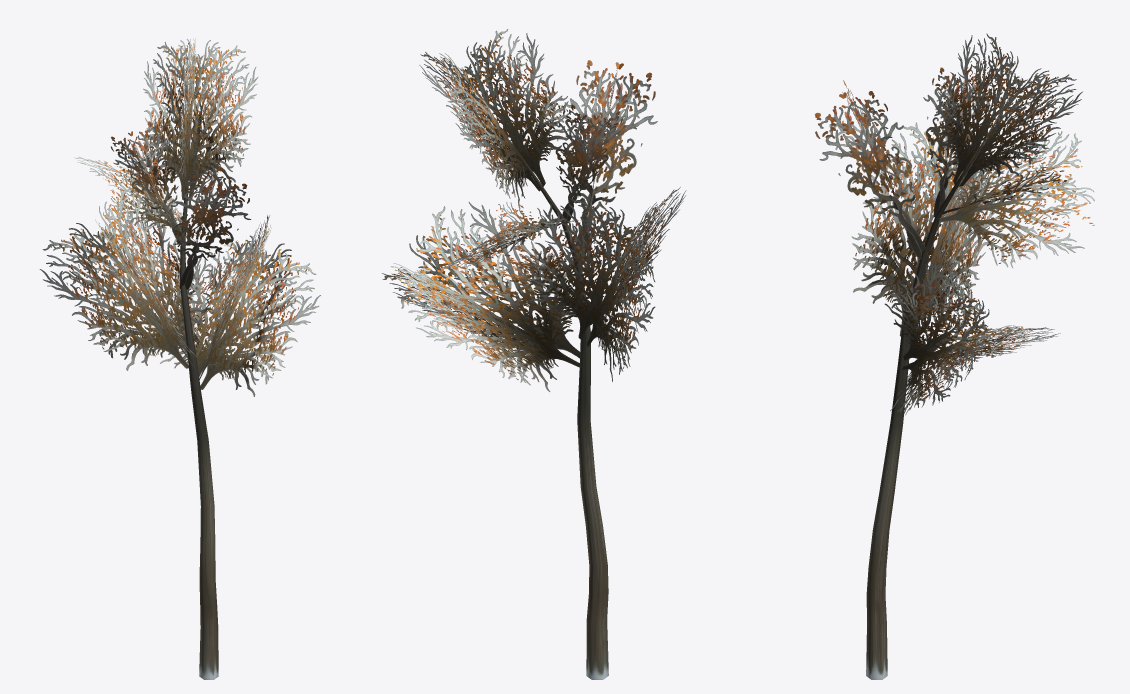
File: dragonblight_tree04.obj
3 views of the same model, side by side, from view 1: azimuth 30°, elevation 25°; view 2: azimuth 150°, elevation 25°; view 3: azimuth 270°, elevation 25° (orthographic). The views are drawn at different scales.
Parts seen in each view (by area): view 1: Geoset1, Geoset0; view 2: Geoset1, Geoset0; view 3: Geoset1, Geoset0.
Part boxes in pixels (bbox=[...]): Geoset1: bbox=[39, 39, 320, 396]; Geoset0: bbox=[180, 151, 218, 679]; Geoset1: bbox=[382, 29, 686, 391]; Geoset0: bbox=[510, 140, 608, 679]; Geoset1: bbox=[815, 33, 1094, 415]; Geoset0: bbox=[866, 148, 978, 679].
Bounding box in the file's own units: 3.1 × 6.1 × 3.02.
2 materials, 2 textured.
